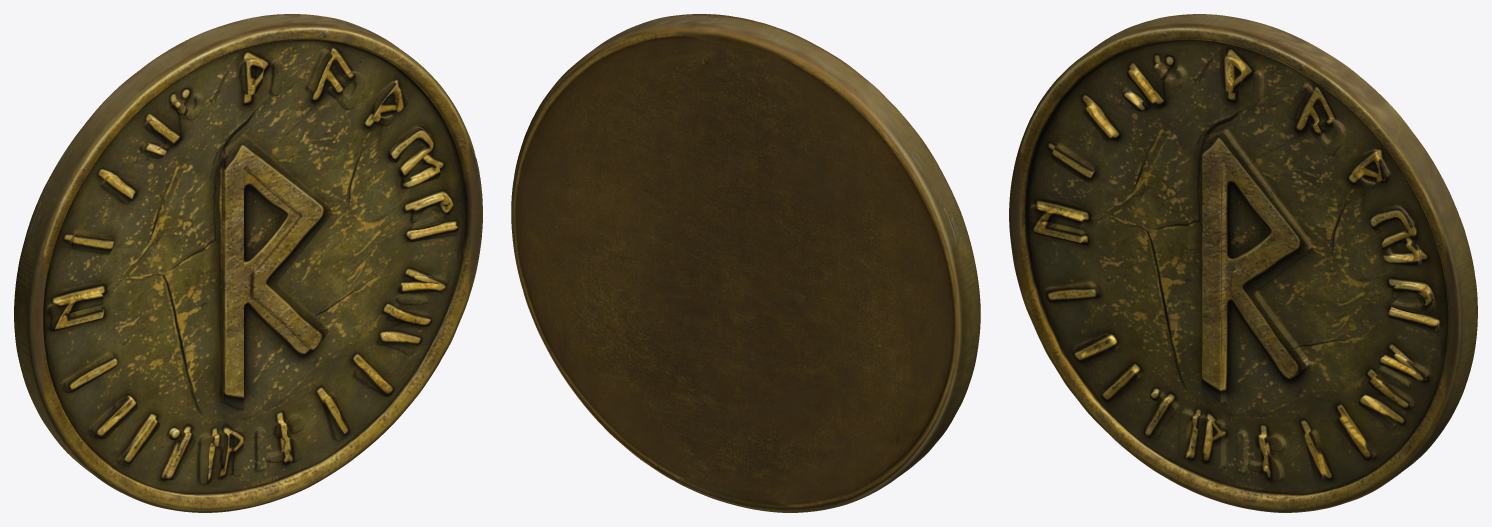
Rendered from runic_coin.glb.
3 views of the same model, side by side, from view 1: azimuth 30°, elevation 25°; view 2: azimuth 150°, elevation 25°; view 3: azimuth 330°, elevation 25° (orthographic).
Visible parts, largest first — view 1: Runic coin; view 2: Runic coin; view 3: Runic coin.
Part boxes in pixels (bbox=[...]): Runic coin: bbox=[14, 14, 482, 512]; Runic coin: bbox=[511, 14, 980, 512]; Runic coin: bbox=[1009, 14, 1477, 512].
Bounding box in the file's own units: 2 × 2 × 0.1521.
1 material, 1 textured.
